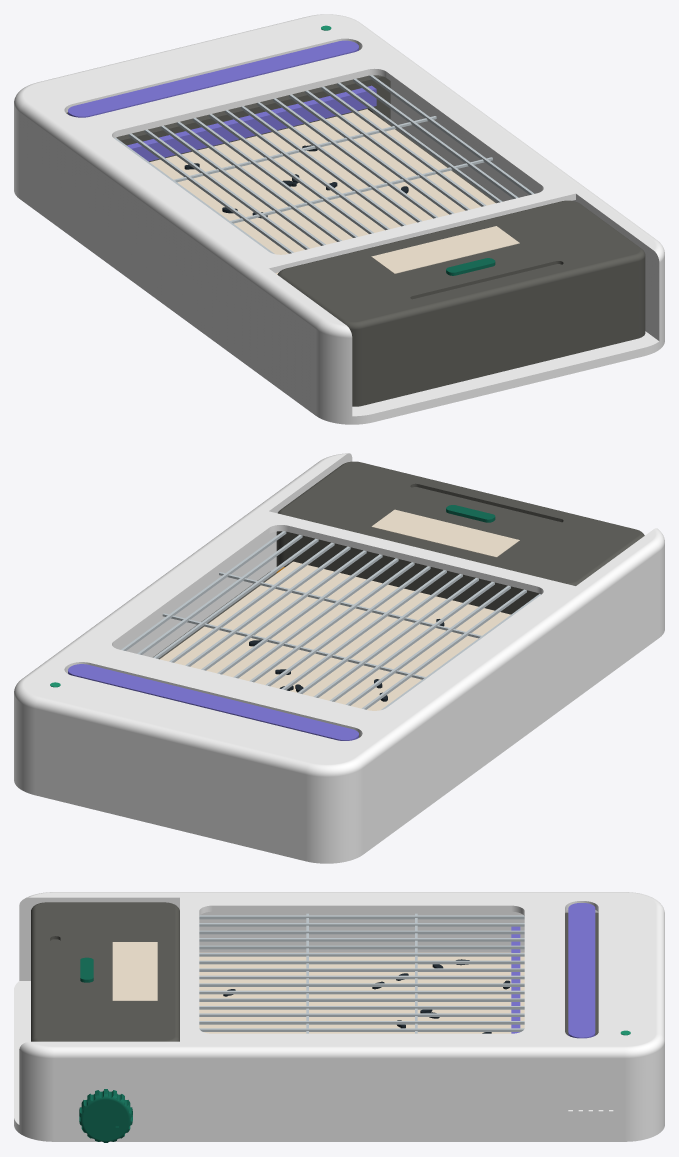
File: uv_roll_trap.glb
The picture shows the model from 3 angles, top to bottom: view 1: azimuth 30°, elevation 25°; view 2: azimuth 150°, elevation 25°; view 3: azimuth 270°, elevation 25°; orthographic projection. The views are drawn at different scales.
Parts seen in each view (by area): view 1: housing, cartridge, film, guard, led_front, led_inner, label; view 2: housing, cartridge, film, guard, led_front, label; view 3: housing, guard, cartridge, film, led_front, label, knob, led_inner, flies.
Boxes of the visible parts, bbox=[...] form: housing: bbox=[14, 14, 664, 424]; cartridge: bbox=[66, 75, 645, 406]; film: bbox=[150, 109, 495, 274]; guard: bbox=[114, 75, 534, 253]; led_front: bbox=[68, 40, 358, 117]; led_inner: bbox=[127, 85, 376, 161]; label: bbox=[371, 226, 519, 273]; housing: bbox=[14, 453, 664, 863]; cartridge: bbox=[153, 461, 644, 737]; film: bbox=[160, 561, 510, 710]; guard: bbox=[121, 531, 541, 709]; led_front: bbox=[68, 664, 358, 740]; label: bbox=[371, 509, 519, 557]; housing: bbox=[14, 892, 664, 1141]; guard: bbox=[199, 913, 524, 1033]; cartridge: bbox=[31, 902, 598, 1041]; film: bbox=[199, 952, 524, 1033]; led_front: bbox=[568, 903, 595, 1038]; label: bbox=[112, 942, 157, 1000]; knob: bbox=[79, 1089, 132, 1142]; led_inner: bbox=[511, 926, 520, 1033]; flies: bbox=[223, 959, 510, 1033].
Size of the model in its own units: 354 by 91 by 580.
